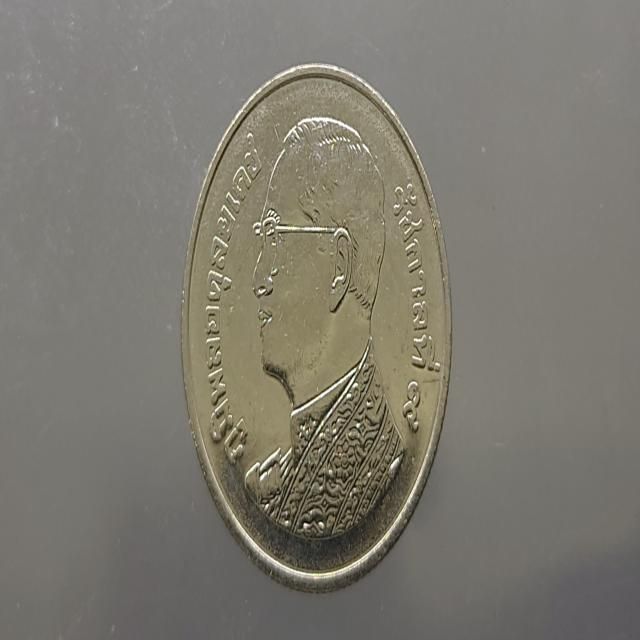1 Bath: (173, 49, 462, 599)
